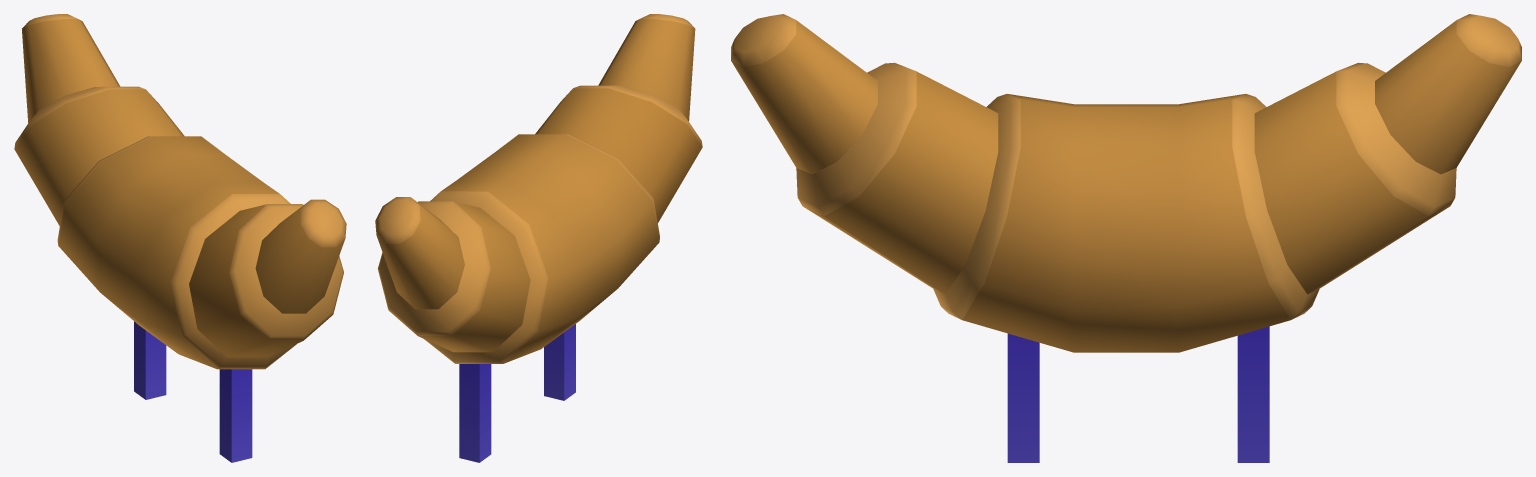
File: BakerySign_1_A.glb
3 renders of one model, left to right at view 1: azimuth 30°, elevation 25°; view 2: azimuth 150°, elevation 25°; view 3: azimuth 270°, elevation 25°, orthographic. The views are drawn at different scales.
Parts seen in each view (by area): view 1: BakerySign_1_A; view 2: BakerySign_1_A; view 3: BakerySign_1_A.
Boxes of the visible parts, bbox=[...] form: BakerySign_1_A: bbox=[14, 14, 346, 462]; BakerySign_1_A: bbox=[375, 14, 702, 462]; BakerySign_1_A: bbox=[731, 14, 1521, 462].
Size of the model in its own units: 0.7364 by 1.35 by 2.24.
Materials: 2 (2 with a texture image).
